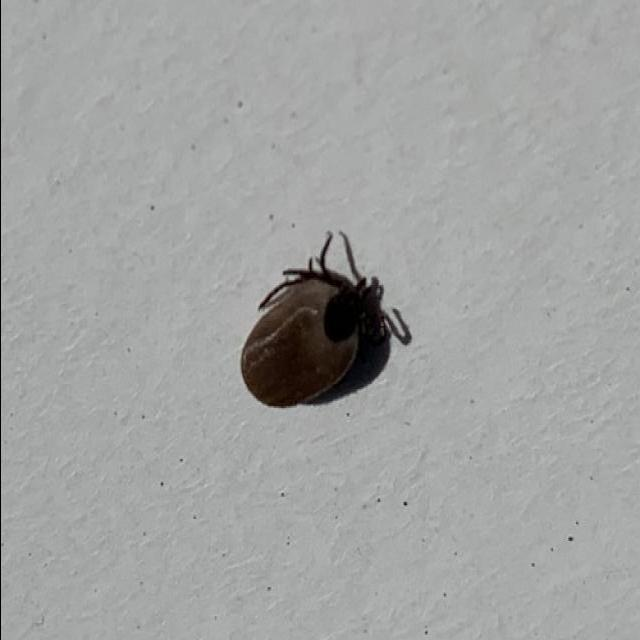Ixodes Ricinus-F-Fed: (238, 229, 390, 408)
